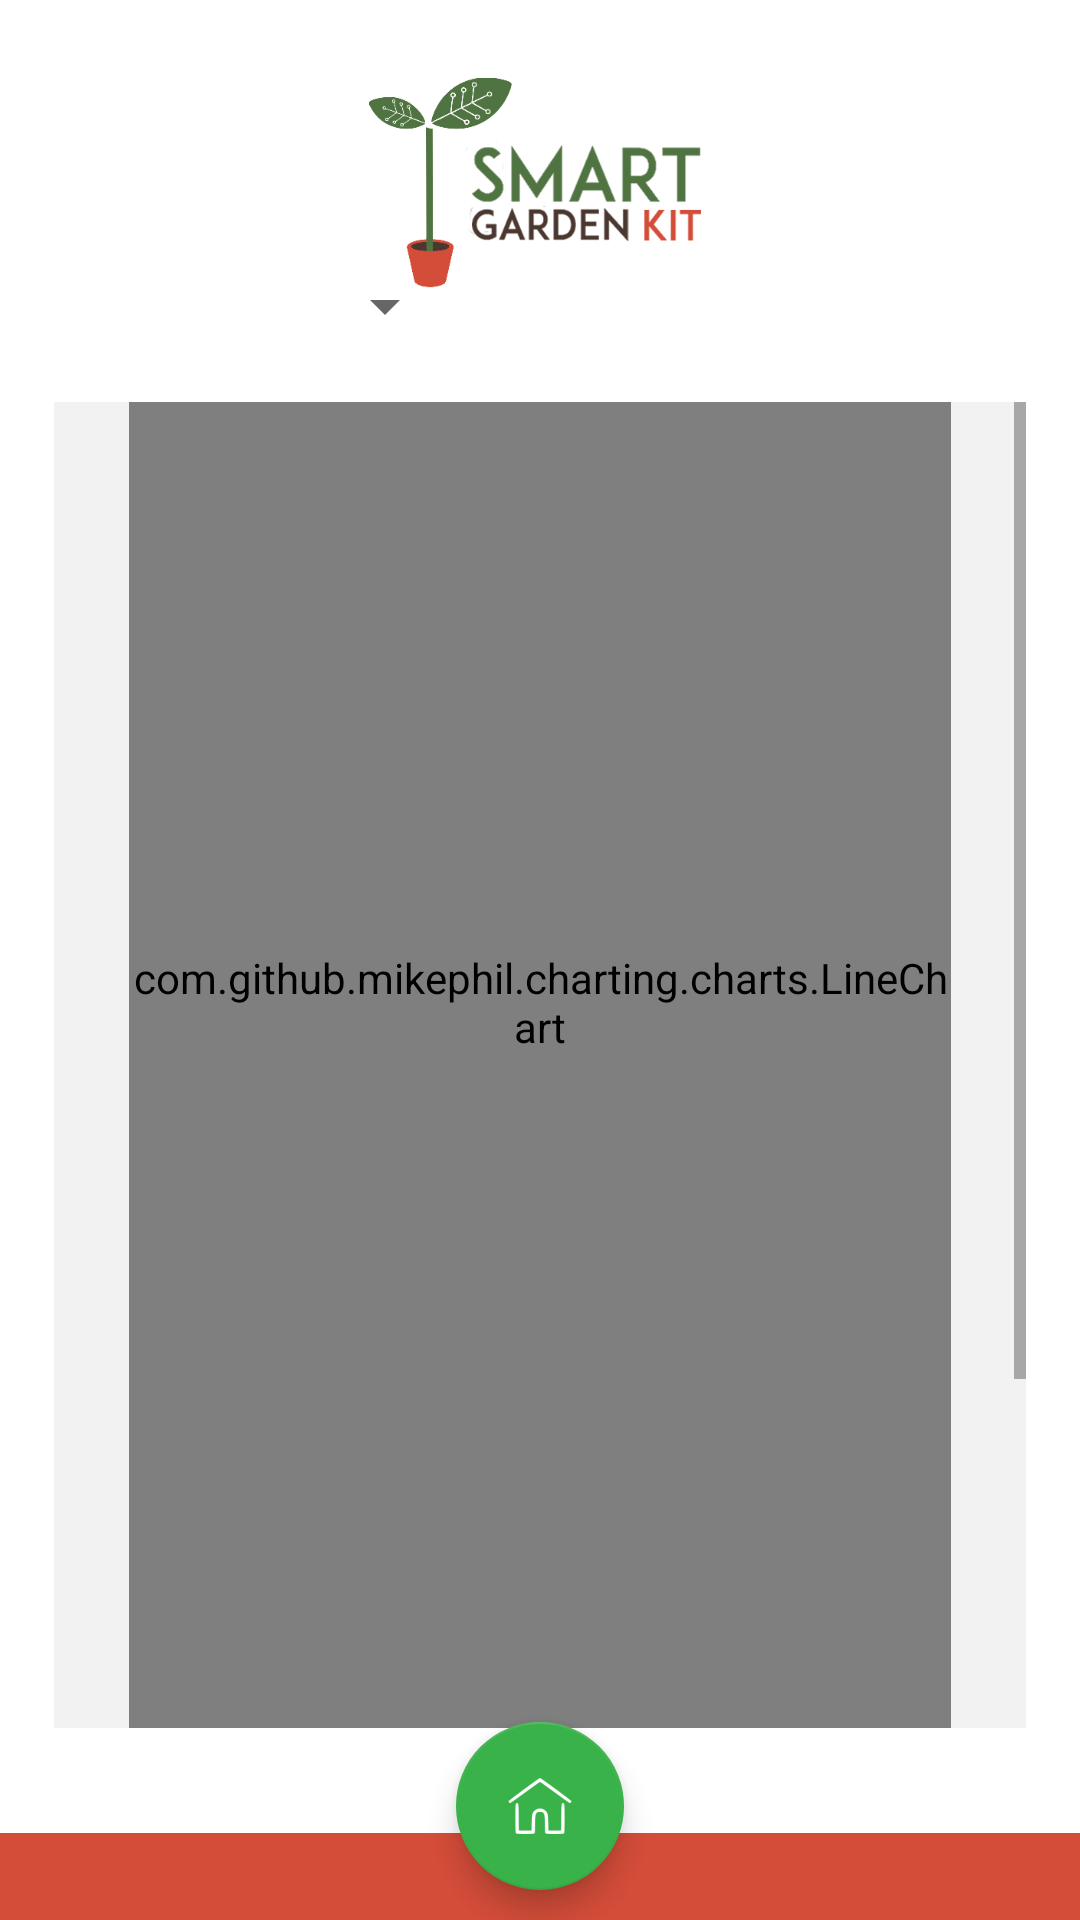

Icon click points for this 1080w x 1920h phone screenshot, format (x=x, y=y):
home: (x=540, y=1806)
